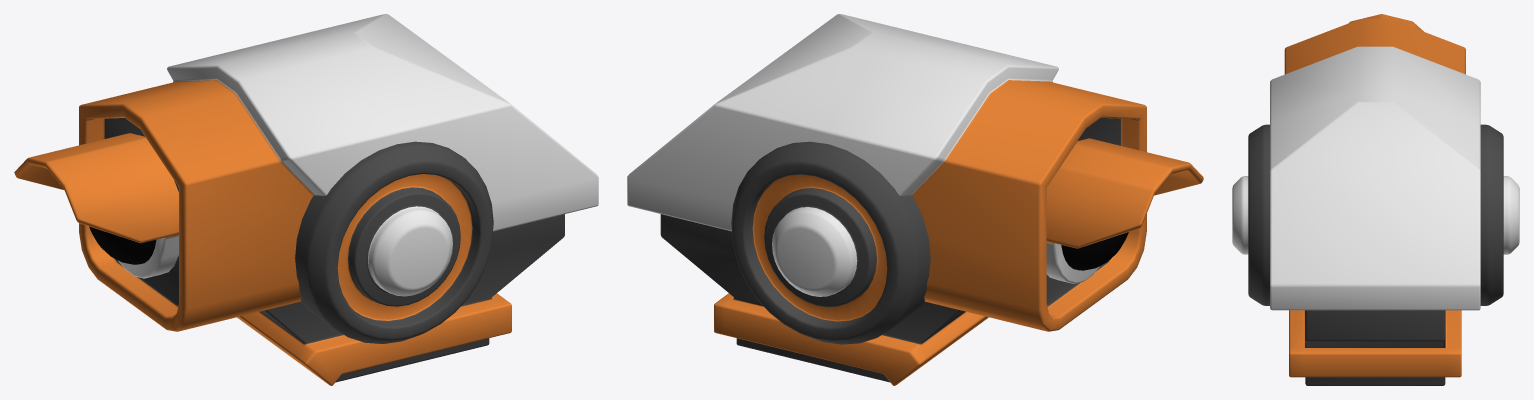
The model's file is Robot_Head.fbx.
3 renders of one model, left to right at view 1: azimuth 30°, elevation 25°; view 2: azimuth 150°, elevation 25°; view 3: azimuth 270°, elevation 25°, orthographic. The views are drawn at different scales.
Visible parts, largest first — view 1: Robot_Head; view 2: Robot_Head; view 3: Robot_Head.
Part boxes in pixels (x1,y1,x2,y2): Robot_Head: (14,14,598,385); Robot_Head: (627,14,1203,385); Robot_Head: (1232,14,1519,385).
Bounding box in the file's own units: 2.11 × 1.22 × 1.27.
